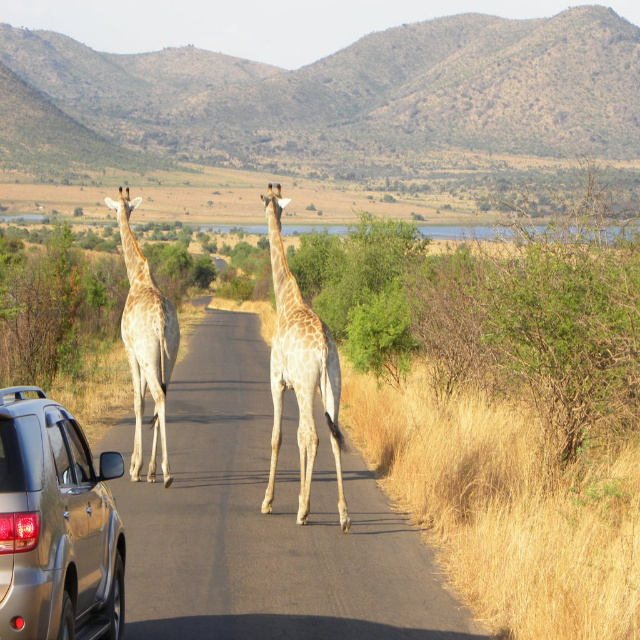Giraffe: (259, 180, 349, 526), (103, 186, 182, 491)
